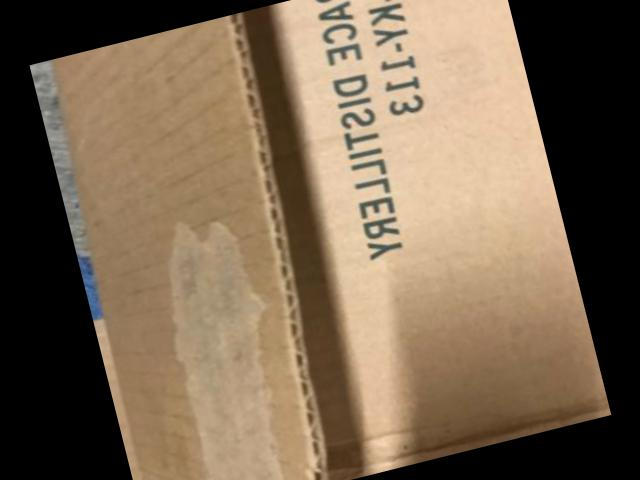cardboard paper: (50, 0, 611, 480)
